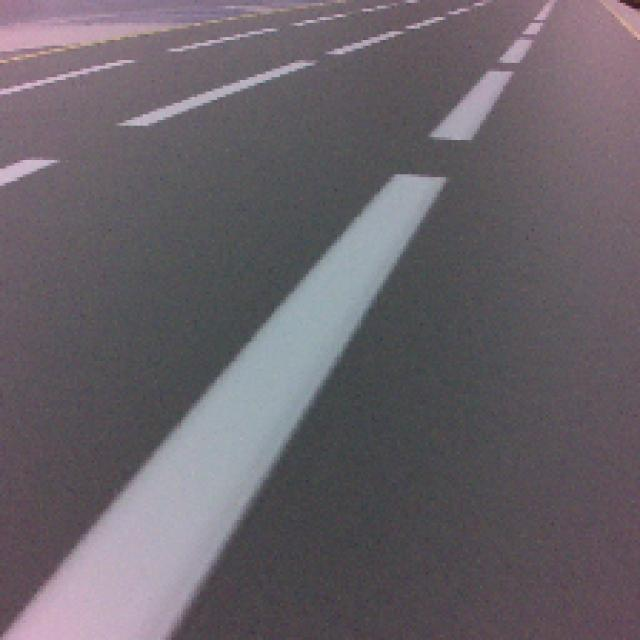Guard rail: (5, 174, 441, 640)
